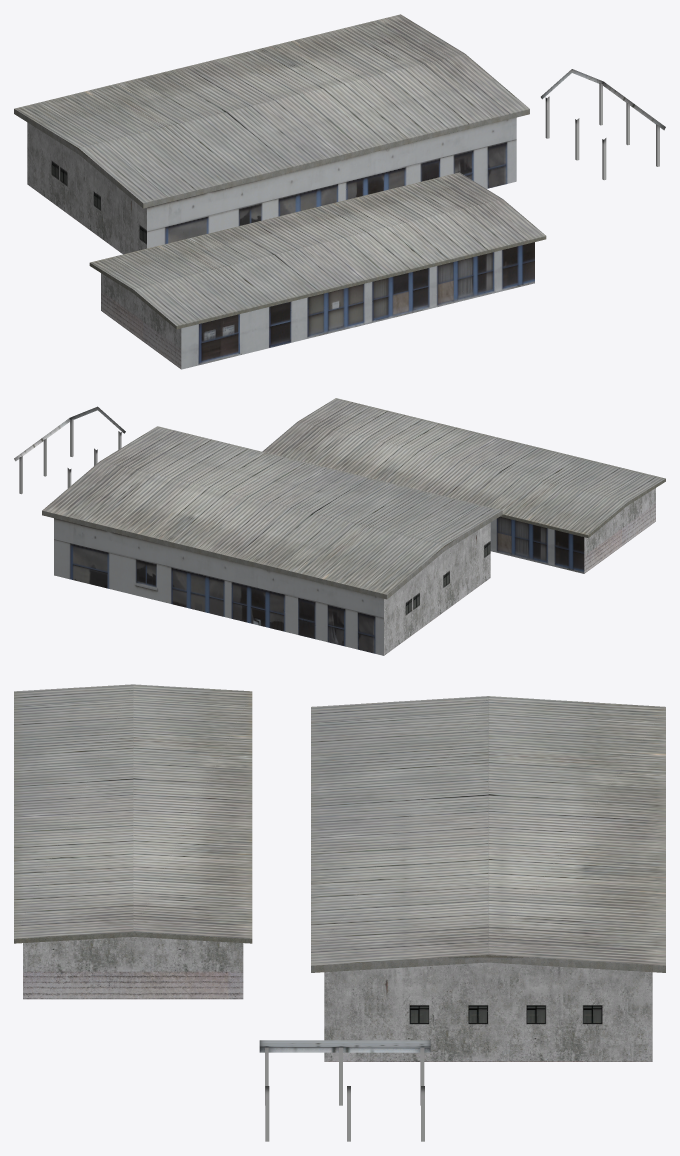
The model's file is LADO_HANGARZIM.gltf.
The picture shows the model from 3 angles, top to bottom: view 1: azimuth 30°, elevation 25°; view 2: azimuth 150°, elevation 25°; view 3: azimuth 270°, elevation 25°; orthographic projection. The views are drawn at different scales.
Visible parts, largest first — view 1: node1; view 2: node1; view 3: node1.
Boxes of the visible parts, box(x1,y1,x2,y2) form: node1: box(14, 14, 665, 369); node1: box(14, 398, 665, 655); node1: box(14, 684, 665, 1141).
Size of the model in its own units: 39.13 by 5.3 by 27.81.
